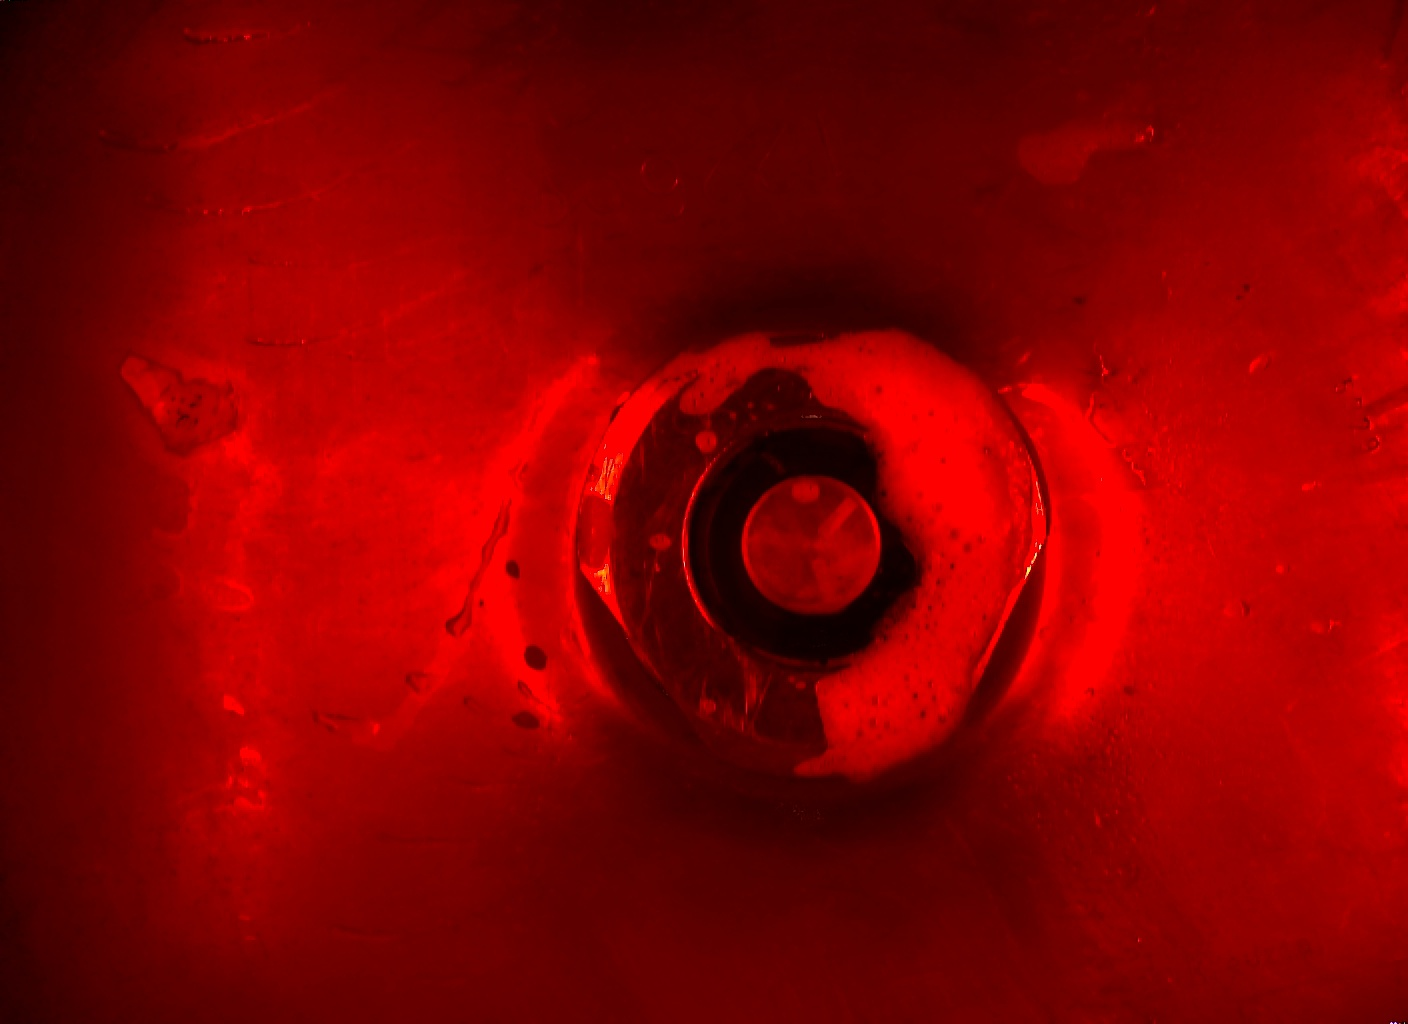pena: (664, 323, 1054, 782)
